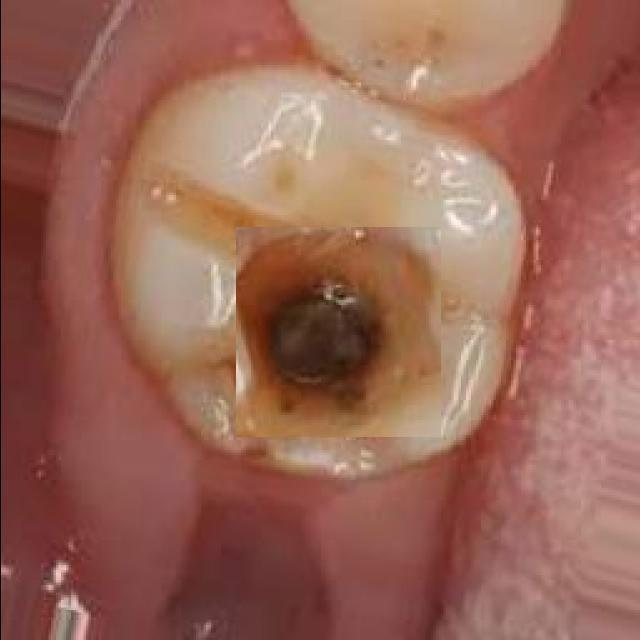decay: (235, 228, 440, 438)
